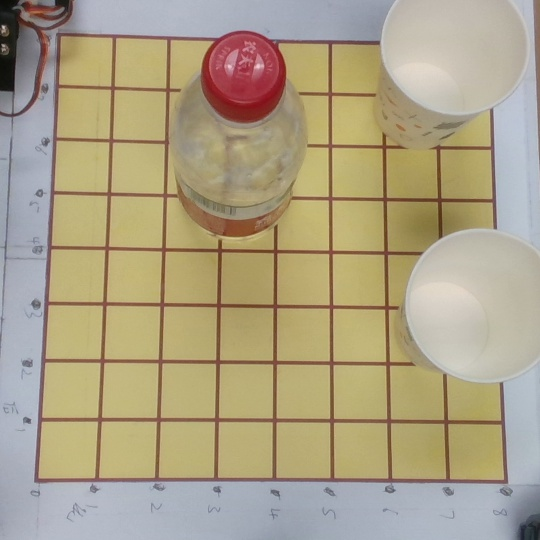bottle: (163, 29, 311, 264)
cup: (374, 229, 540, 401), (361, 1, 528, 164)
